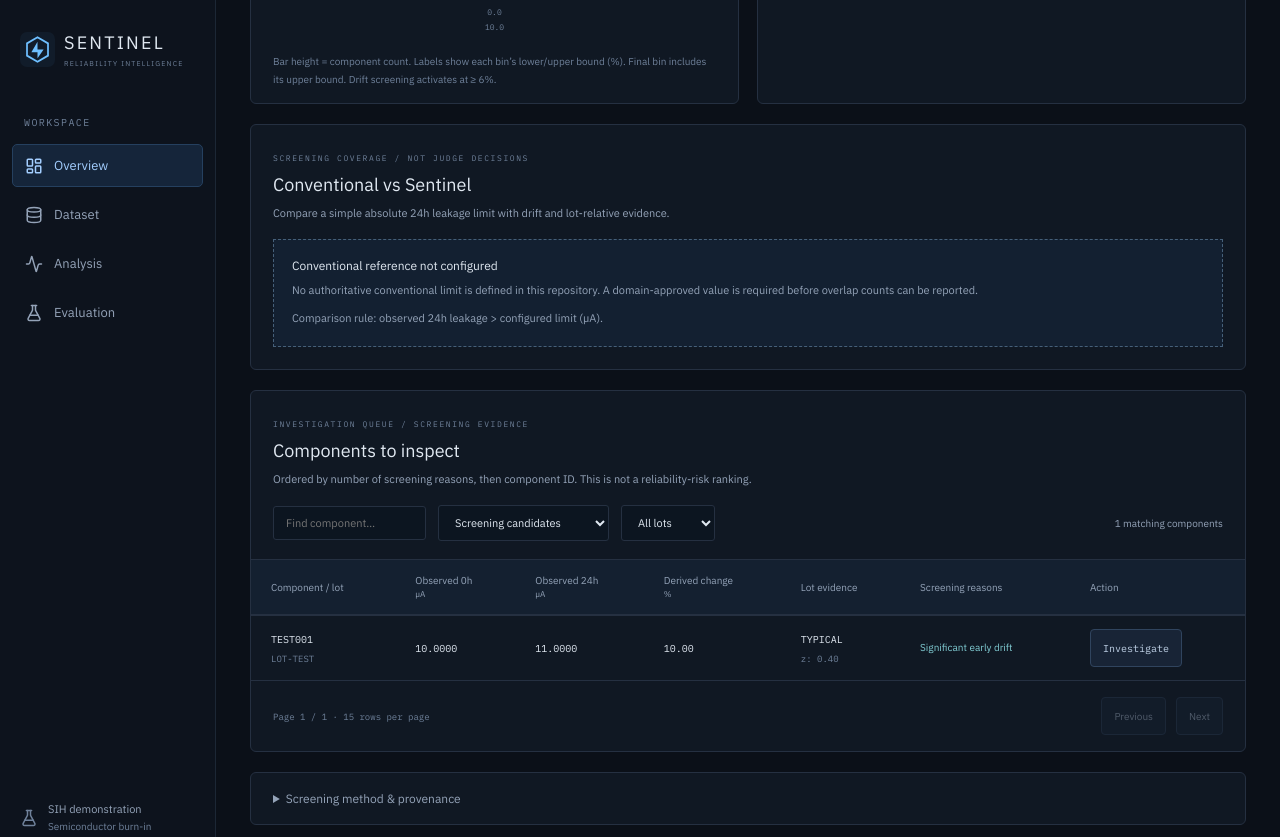
loads population without investigations, filters the full returned population, and investigates through Phase 3
(page scrolled)
Expected: the text "Conventional reference not configured" is shown, [292,258,498,273]
Expected: the button with aria-label "Investigate TEST001" is shown, [1090,629,1182,667]
Select "All components" in the dropdown named "Screening evidence filter" at (524, 523), box [438,505,609,541]
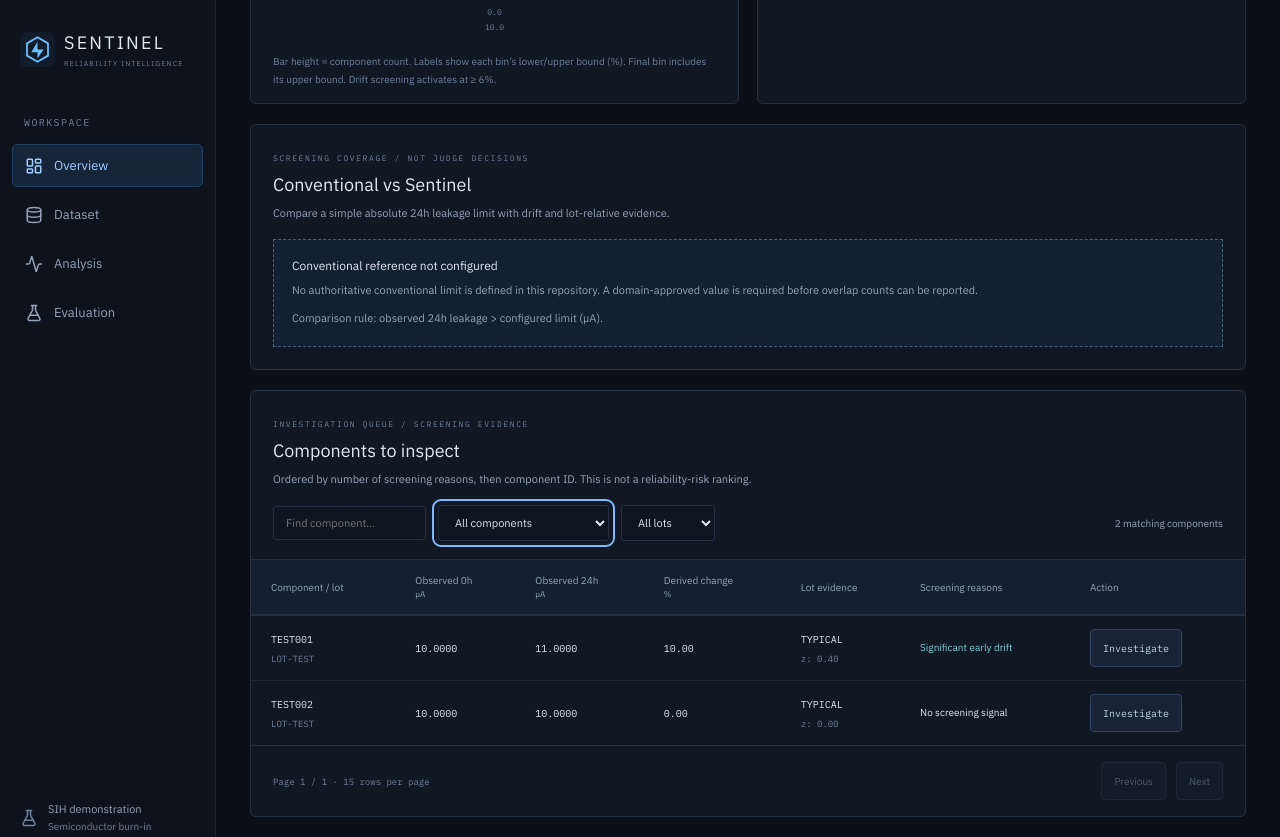
Result: the button with aria-label "Investigate TEST002" is shown at [1090,694,1182,732]
Type "TEST001" into the field named "Search population component" at (350, 523), box [273,506,426,540]
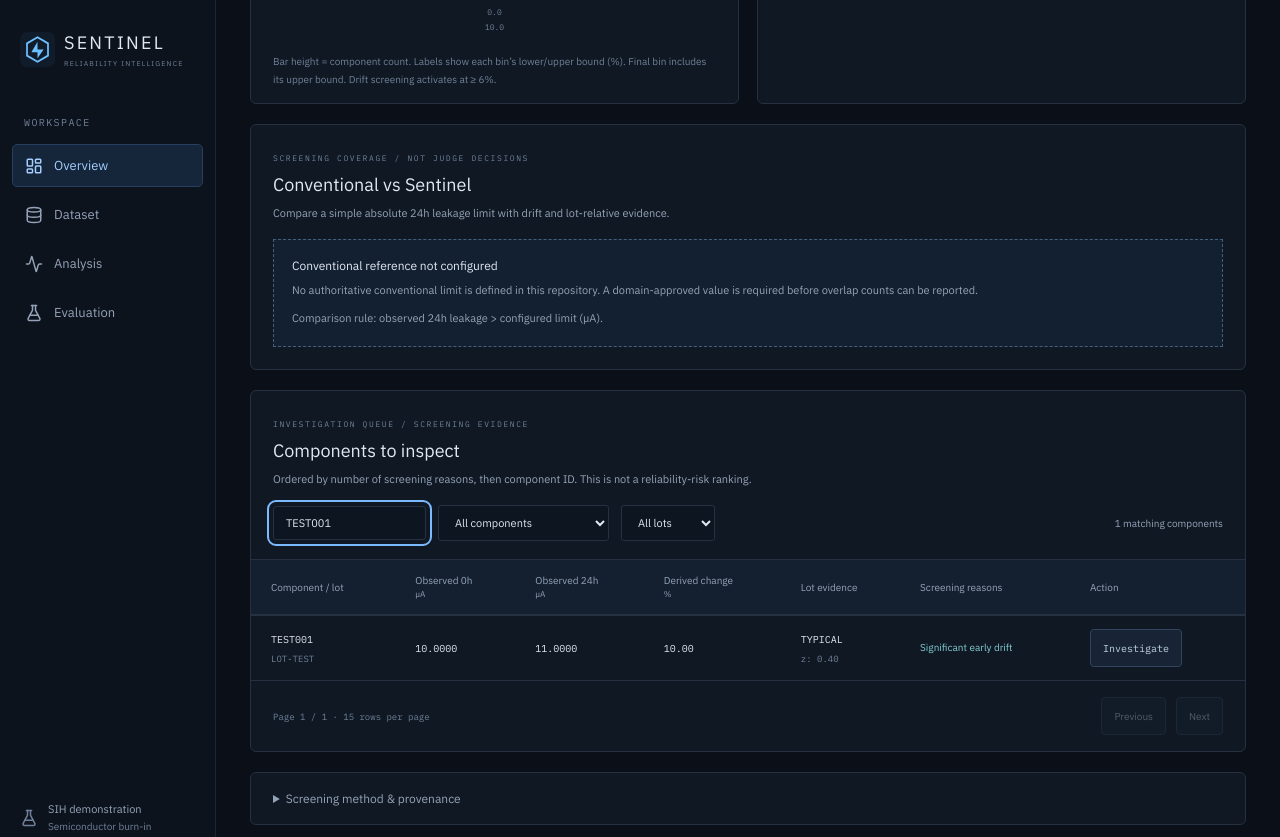
Result: the table "Investigate TEST002" is gone
Click the button with aria-label "Investigate TEST001" at (1136, 648), box [1090,629,1182,667]
(page scrolled)
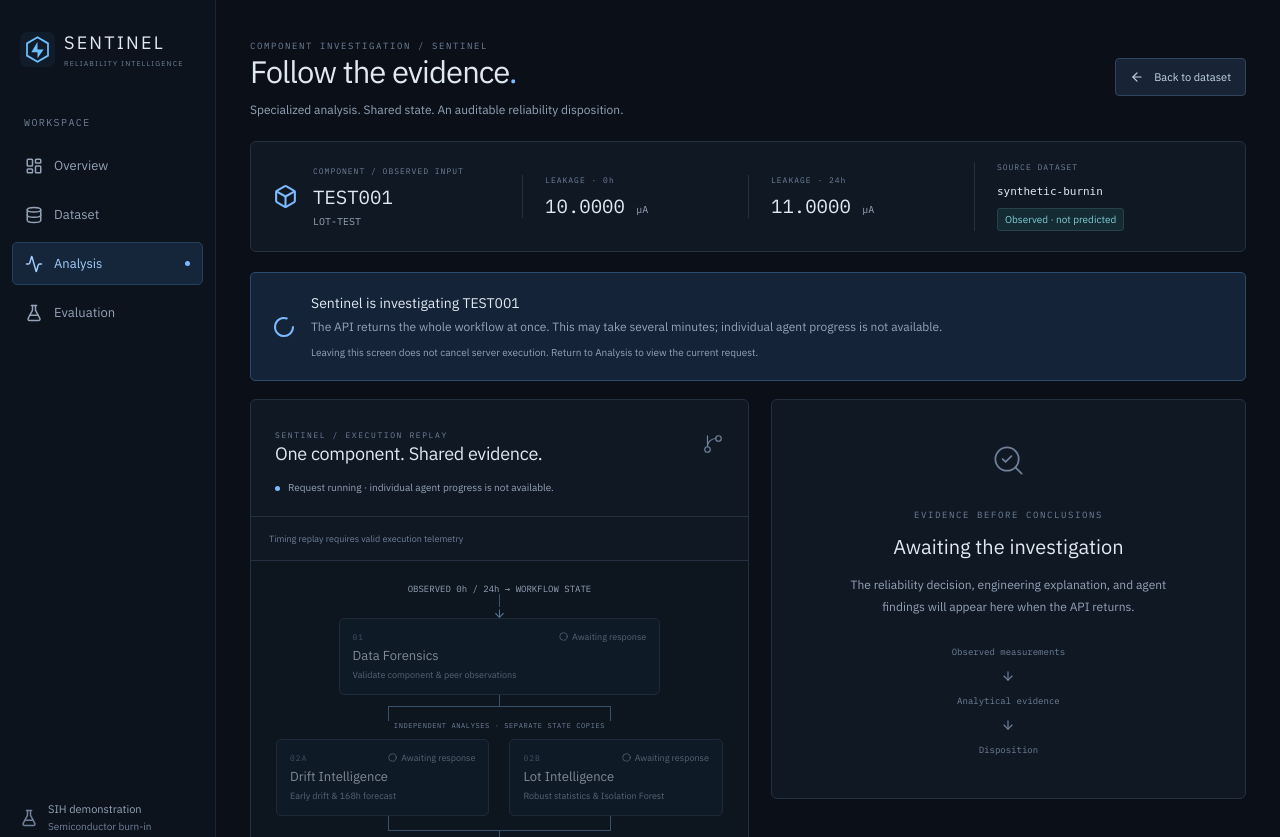
Result: the text "Sentinel is investigating TEST001" is shown at [311,294,520,312]
